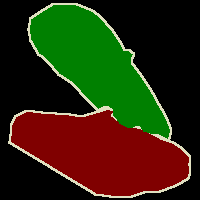shoe: (28, 4, 171, 140), (9, 108, 190, 197)
